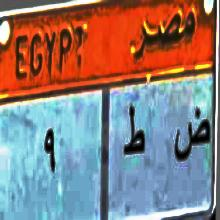9: (41, 121, 57, 178)
Taa: (122, 101, 146, 168)
daad: (171, 109, 211, 170)
